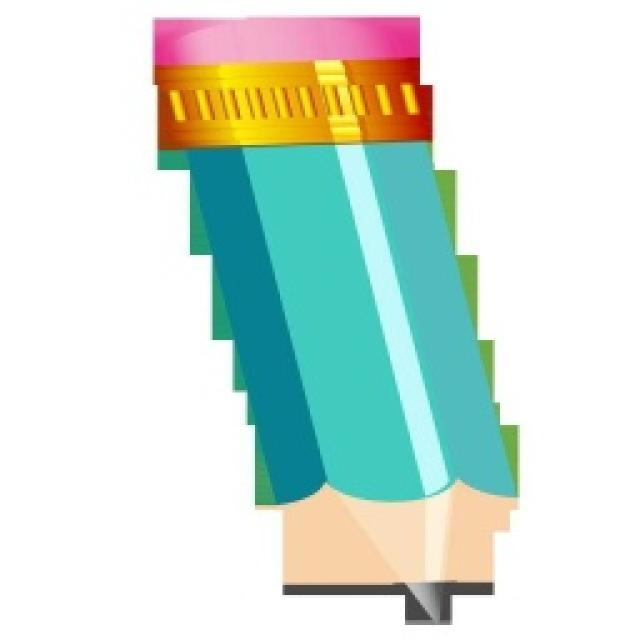pencil: (150, 13, 522, 625)
